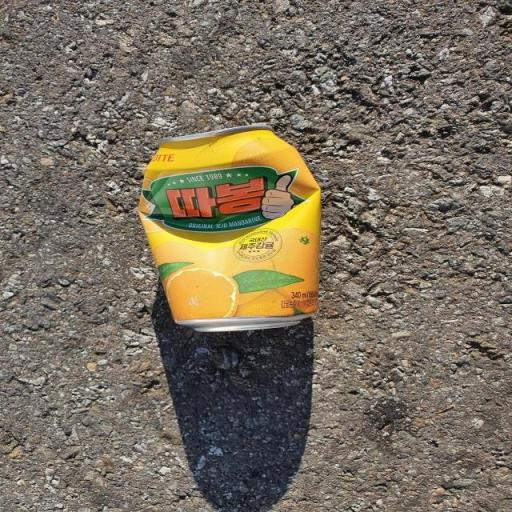metal: (126, 100, 328, 346)
